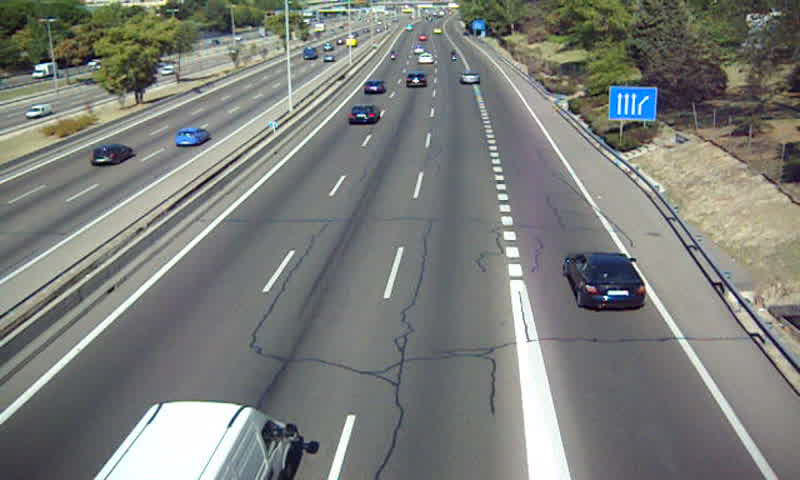car: (564, 251, 645, 307), (347, 104, 378, 125), (404, 72, 427, 90), (363, 79, 386, 96), (459, 70, 481, 86), (416, 52, 435, 64)
